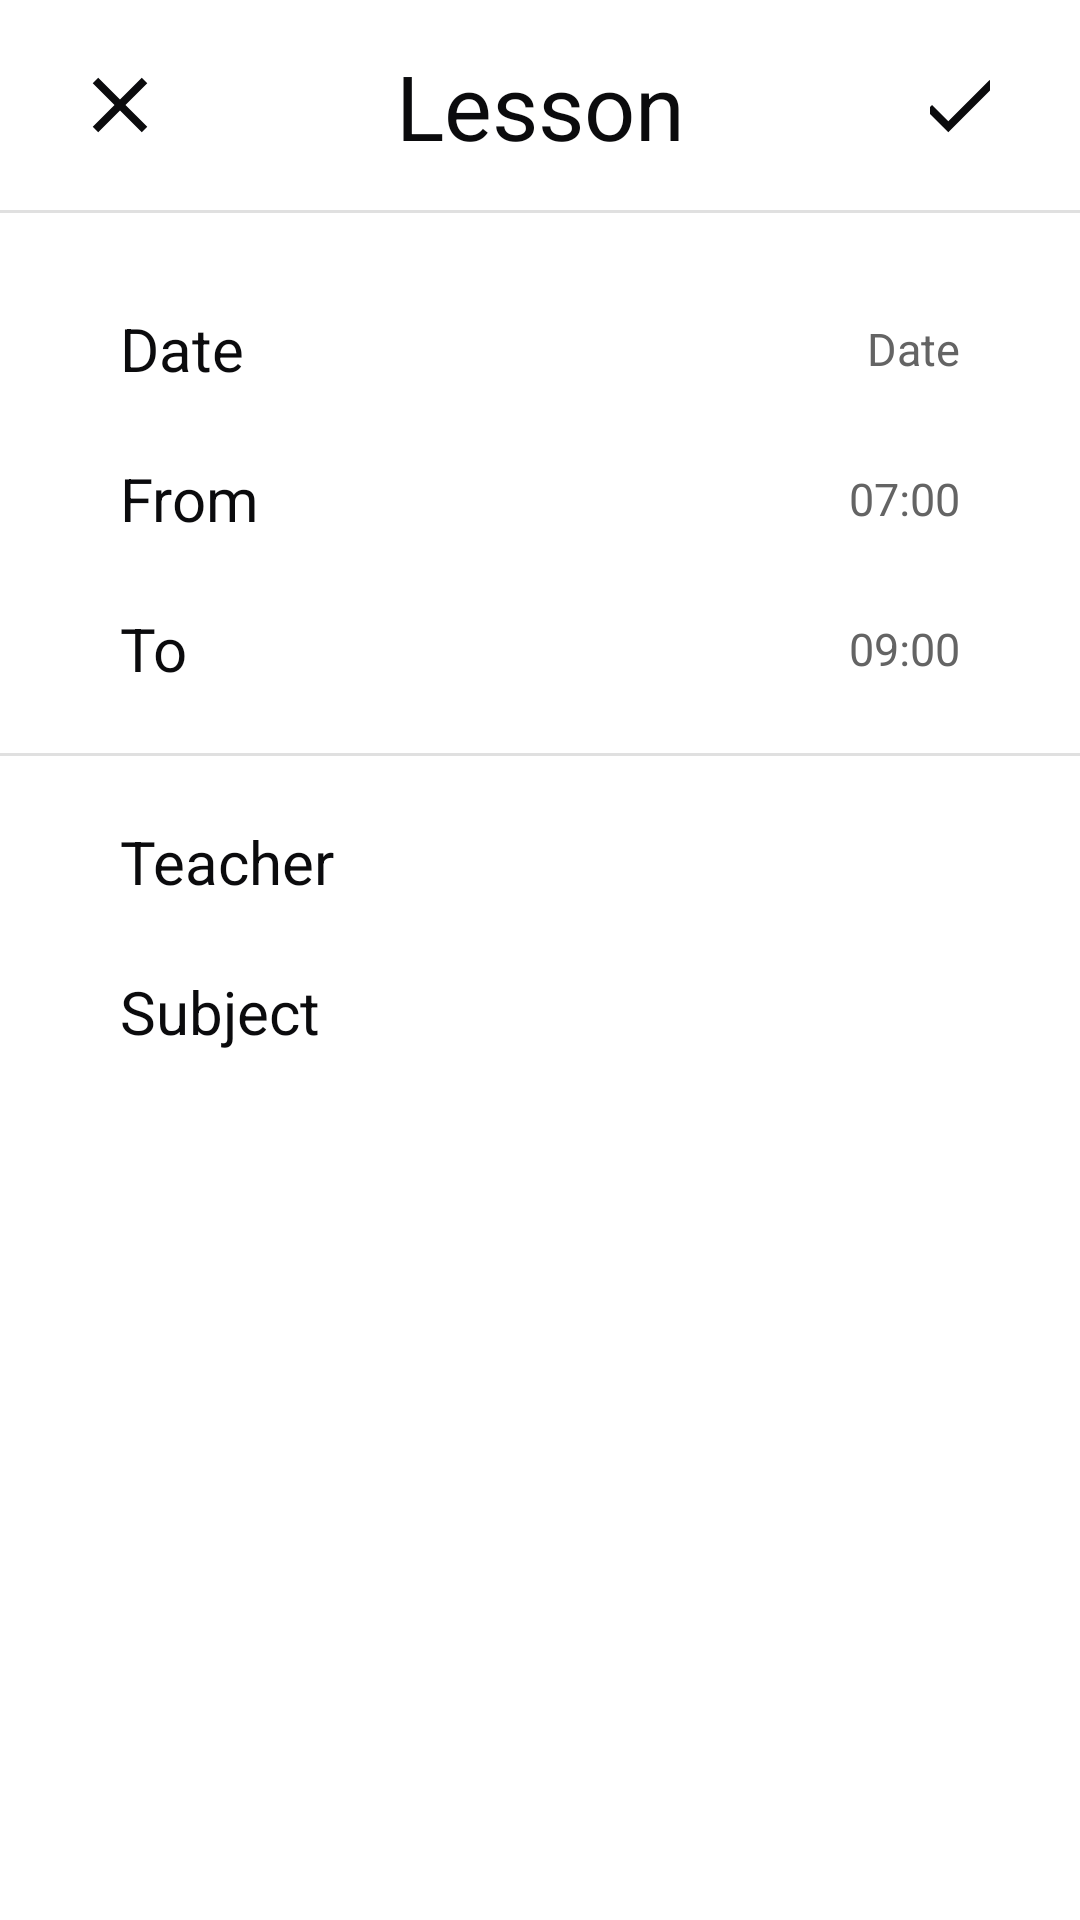

Where to tap for icons on this 1080×1920 app screen, as (x,y):
close: (120,105)
save: (960,106)
